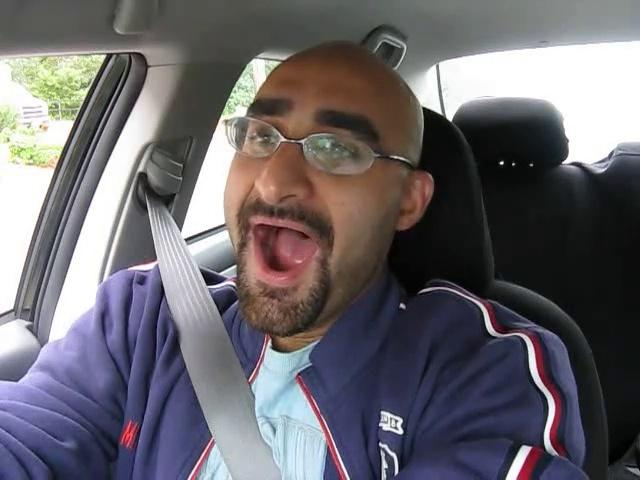open_eyeL: (234, 120, 291, 160)
open_eyeR: (298, 130, 378, 178)
yawn: (231, 204, 345, 296)
